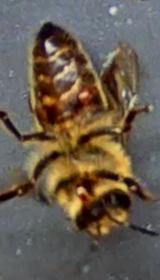varroa_mite: (66, 85, 99, 110)
